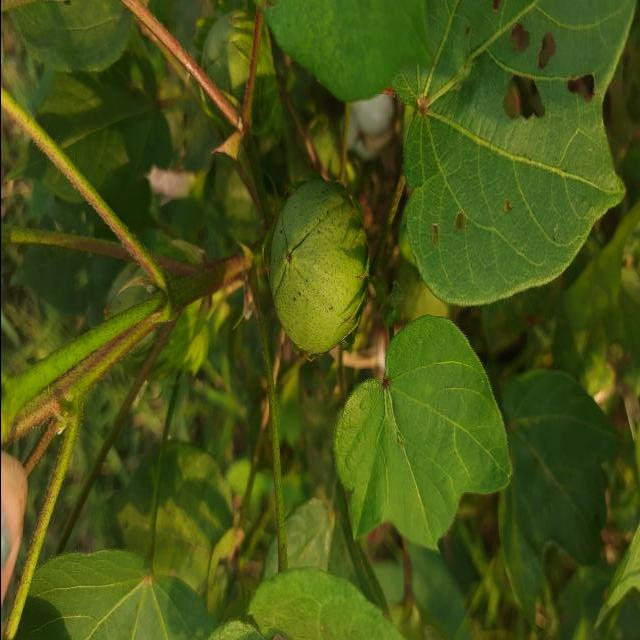Early Boll: (257, 182, 373, 354)
